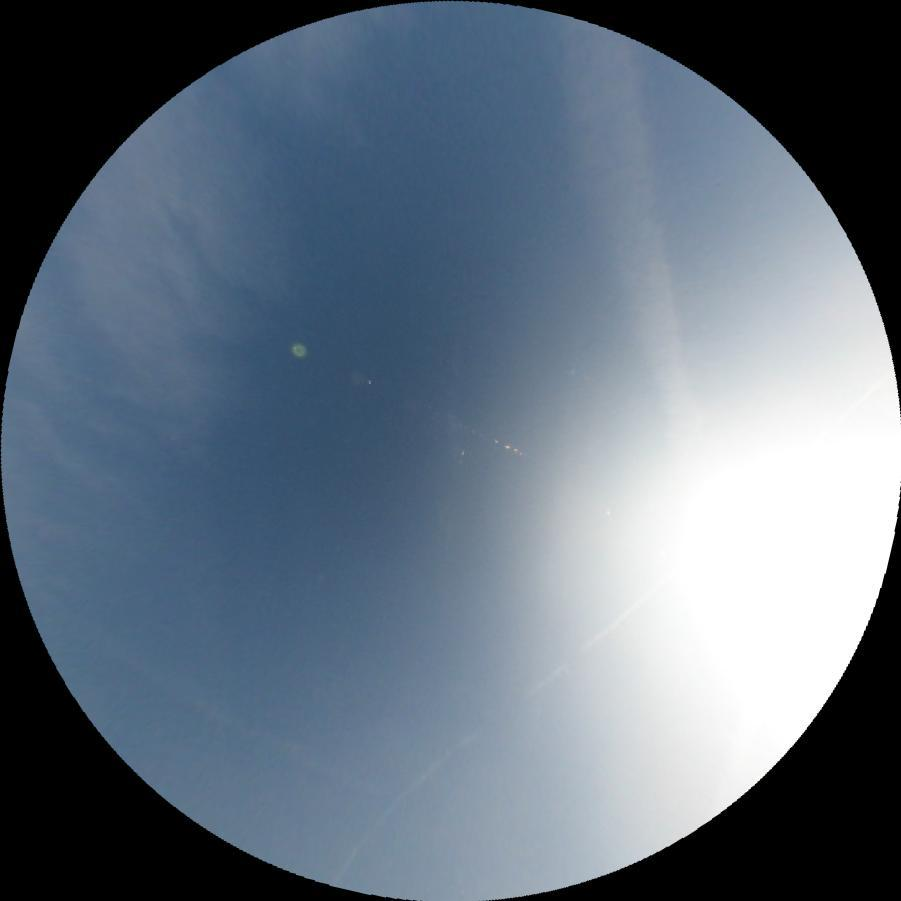contrail old: (316, 564, 662, 887)
contrail veryold: (545, 8, 710, 483)
